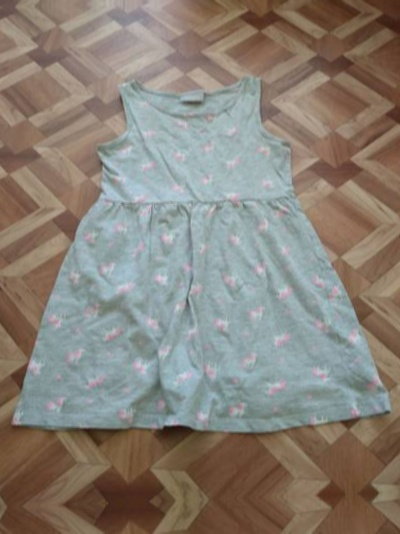Dress: (0, 34, 400, 457)
